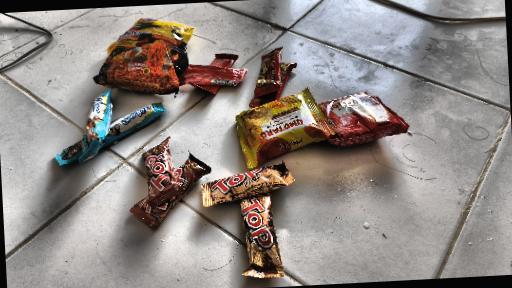chocho: (178, 50, 250, 98), (255, 50, 285, 98)
dilan: (42, 99, 172, 173), (79, 89, 116, 161)
indomie: (127, 13, 198, 52)
mie sedap: (91, 24, 192, 101)
momotaro: (305, 83, 414, 152), (231, 95, 335, 161)
top: (132, 154, 207, 231), (234, 186, 290, 283), (194, 166, 293, 211), (136, 141, 184, 203)
